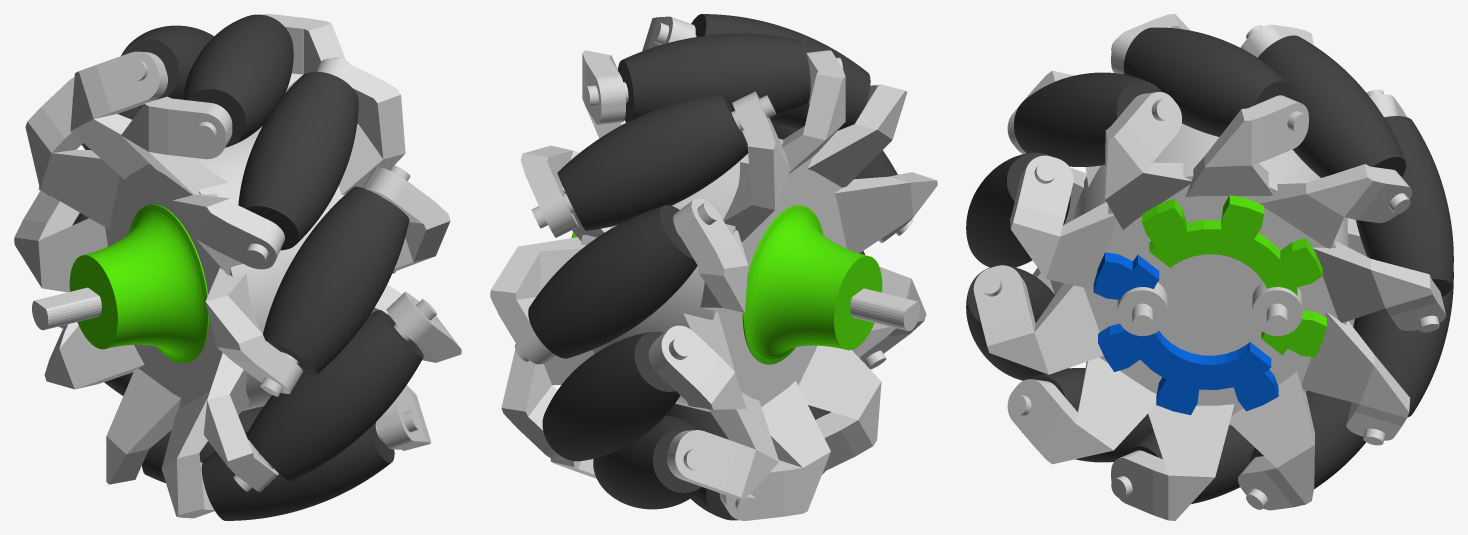
Rendered from omniWheel.glb.
3 views of the same model, side by side, from view 1: azimuth 30°, elevation 25°; view 2: azimuth 150°, elevation 25°; view 3: azimuth 270°, elevation 25° (orthographic).
Parts seen in each view (by area): view 1: Цилиндр.023, Цилиндр.028, Цилиндр.017, Цилиндр.025, Цилиндр, Цилиндр.001, Цилиндр.015, Куб.002, Куб.004, Куб, Куб.019, Куб.006 (+15 smaller); view 2: Цилиндр.004, Цилиндр.028, Цилиндр.007, Цилиндр.001, Цилиндр.009, Цилиндр, Куб.010, Куб.008, Куб.012, Куб.006, Цилиндр.011, Куб.002 (+15 smaller); view 3: Gear, Цилиндр.002, Цилиндр.001, Цилиндр.004, Куб.013, Куб.015, Куб.011, Цилиндр.025, Куб.017, Цилиндр.007, Куб.009, Куб.019 (+18 smaller).
Boxes of the visible parts, x1,y1,x2,y2 form: Цилиндр.023: (263, 186, 409, 375); Цилиндр.028: (69, 204, 209, 363); Цилиндр.017: (247, 309, 423, 481); Цилиндр.025: (238, 71, 358, 250); Цилиндр: (105, 141, 299, 410); Цилиндр.001: (183, 14, 293, 147); Цилиндр.015: (201, 422, 394, 520); Куб.002: (70, 51, 167, 179); Куб.004: (25, 77, 119, 229); Куб: (121, 96, 232, 194); Куб.019: (315, 58, 405, 194); Куб.006: (14, 191, 107, 292); Цилиндр.004: (557, 92, 747, 230); Цилиндр.028: (742, 205, 882, 364); Цилиндр.007: (528, 205, 697, 358); Цилиндр.001: (617, 33, 810, 122); Цилиндр.009: (542, 331, 680, 461); Цилиндр: (643, 130, 846, 411); Куб.010: (719, 381, 830, 520); Куб.008: (667, 392, 779, 499); Куб.012: (798, 345, 881, 470); Куб.006: (648, 312, 746, 409); Цилиндр.011: (593, 415, 702, 509); Куб.002: (723, 91, 790, 242); Gear: (1093, 195, 1326, 415); Цилиндр.002: (1084, 141, 1346, 425); Цилиндр.001: (1123, 27, 1296, 136); Цилиндр.004: (1258, 35, 1405, 177); Куб.013: (1007, 357, 1156, 464); Куб.015: (973, 265, 1103, 374); Куб.011: (1111, 404, 1234, 520); Цилиндр.025: (1014, 72, 1161, 166); Куб.017: (1009, 155, 1117, 289); Цилиндр.007: (1356, 116, 1453, 296); Куб.009: (1229, 371, 1315, 510); Куб.019: (1104, 92, 1191, 229).
Size of the model in its own units: 36.62 by 50.38 by 49.56.
